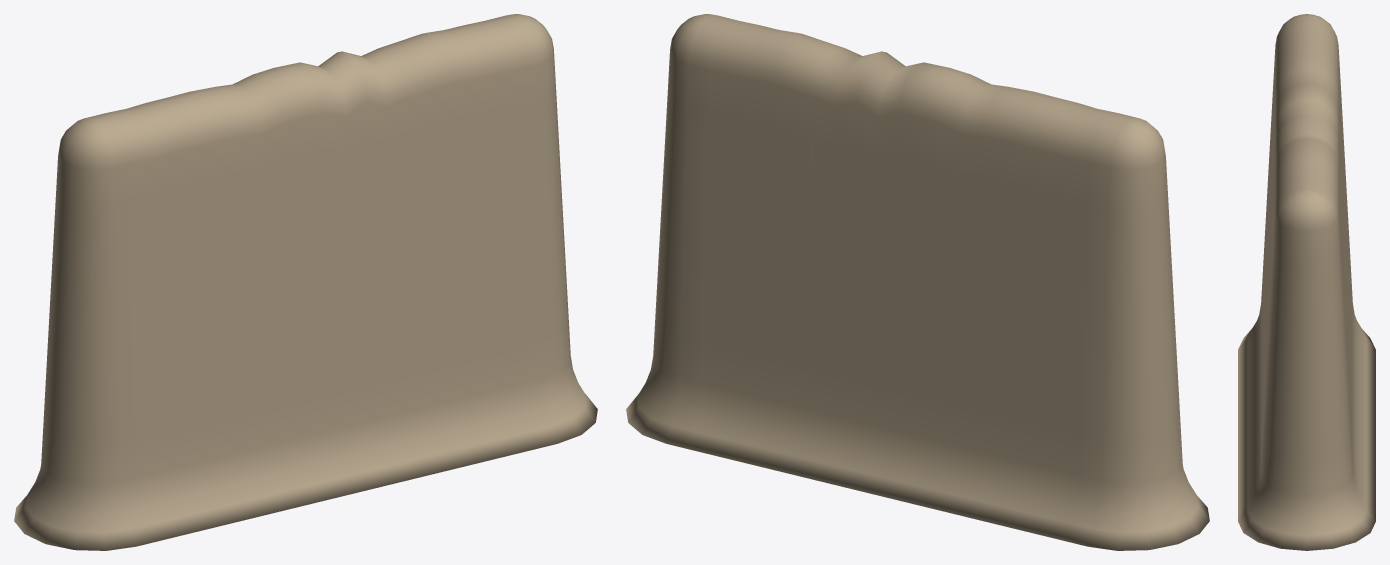
The model's file is KFB_Wall_straight_capped.r1.glb.
The picture shows the model from 3 angles, left to right: view 1: azimuth 30°, elevation 25°; view 2: azimuth 150°, elevation 25°; view 3: azimuth 270°, elevation 25°; orthographic projection. The views are drawn at different scales.
Parts seen in each view (by area): view 1: KFB_Wall_straight_capped; view 2: KFB_Wall_straight_capped; view 3: KFB_Wall_straight_capped.
Part boxes in pixels (left/top/right/bottom): KFB_Wall_straight_capped: left=14, top=14, right=597, bottom=550; KFB_Wall_straight_capped: left=626, top=14, right=1209, bottom=550; KFB_Wall_straight_capped: left=1238, top=14, right=1375, bottom=550.
Bounding box in the file's own units: 5.35 × 3.64 × 1.35.
